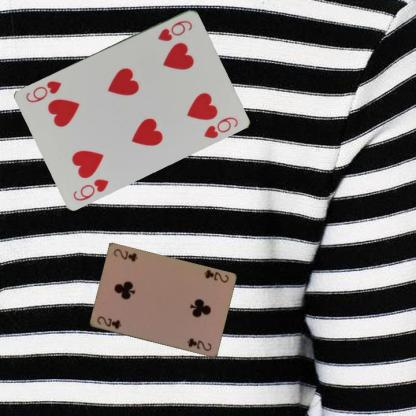2c: (201, 267, 230, 284), (94, 314, 122, 330)
6h: (70, 176, 110, 202), (155, 17, 193, 42)
